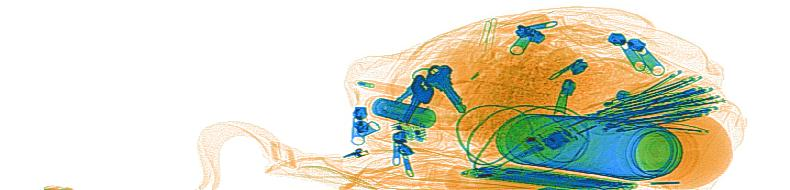battery: (370, 96, 436, 127)
